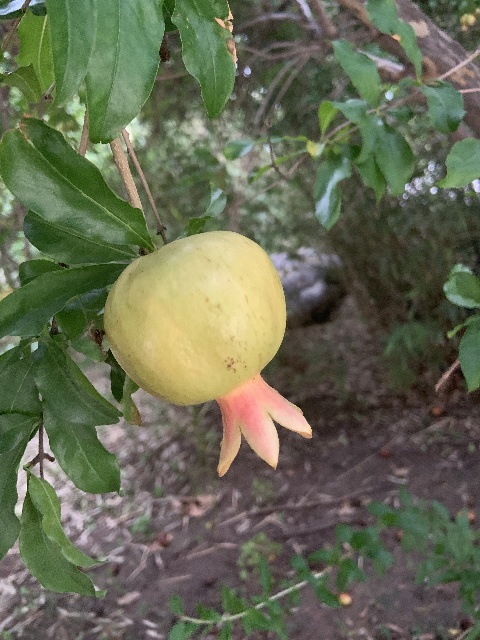mid-growth: (102, 230, 312, 476)
